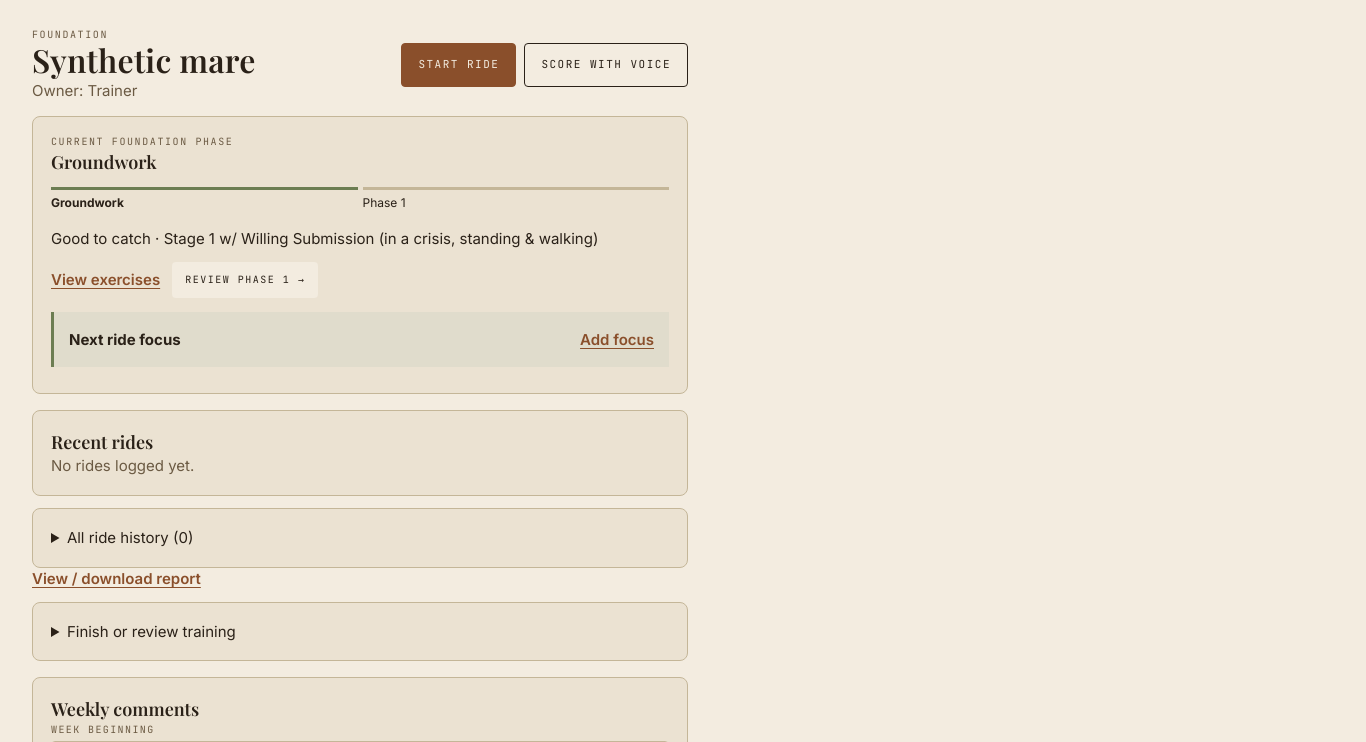
Scenario: opens the scorer from the horse page even when the horse is on Groundwork
Step 1. Click the link "Score with voice" → (606, 65), box x1=524 y1=43 x2=688 y2=87
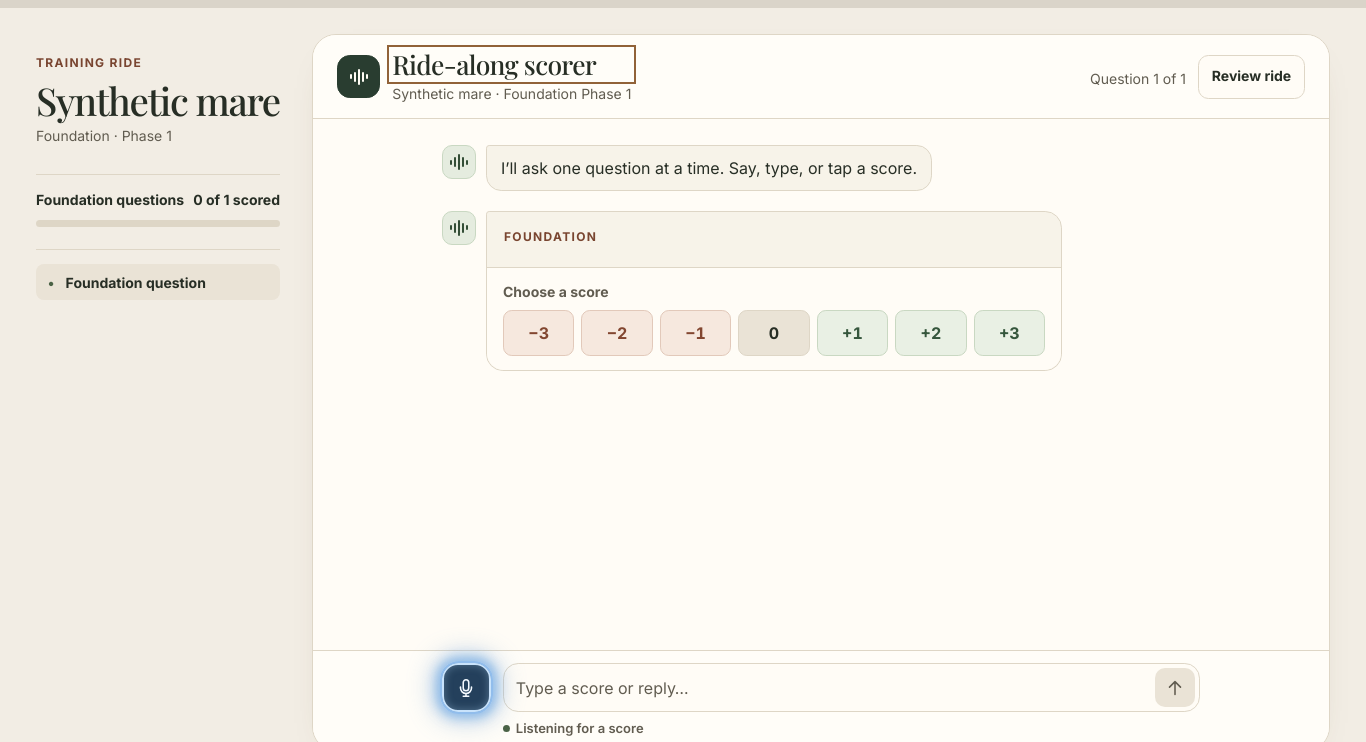
expect the button named "Microphone and readback" is enabled: met, box x1=442 y1=663 x2=491 y2=712
